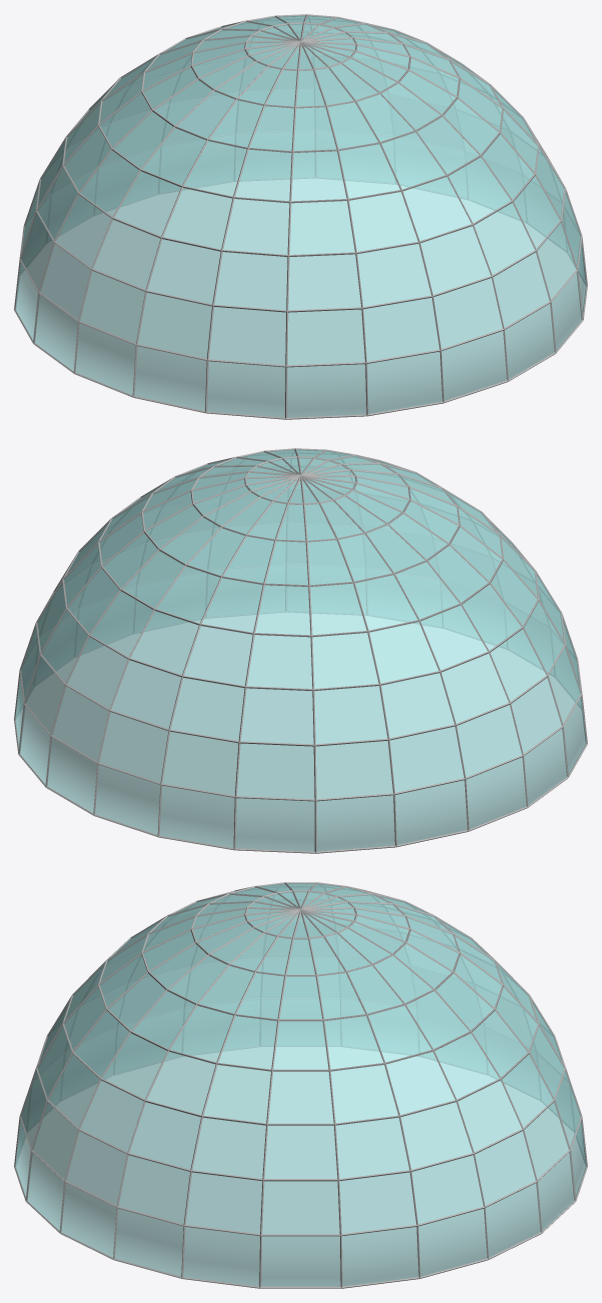
The model's file is DomoCircular.fbx.
3 views of the same model, one above another, from view 1: azimuth 30°, elevation 25°; view 2: azimuth 150°, elevation 25°; view 3: azimuth 270°, elevation 25° (orthographic).
Parts seen in each view (by area): view 1: Dome Circular; view 2: Dome Circular; view 3: Dome Circular.
Boxes of the visible parts, x1,y1,x2,y2 form: Dome Circular: (14,14,587,419); Dome Circular: (14,448,587,853); Dome Circular: (14,882,587,1288).
Bounding box in the file's own units: 9887 × 4923 × 9888.
